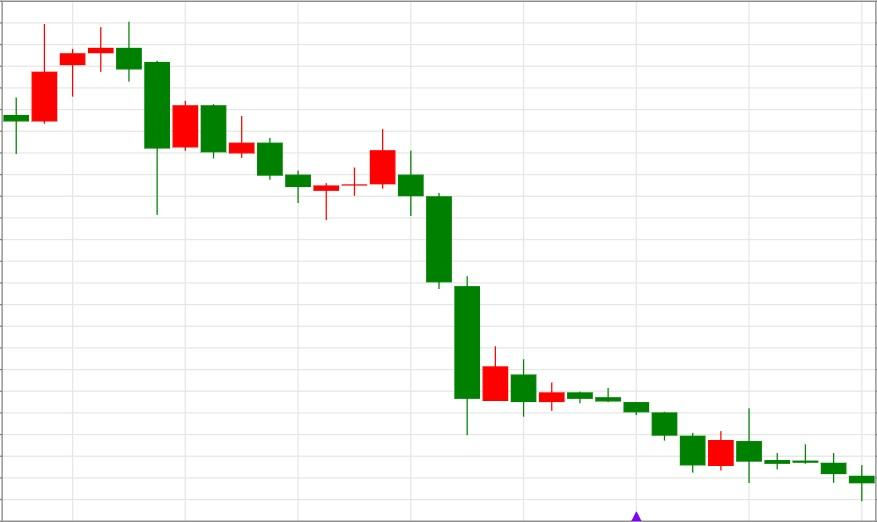three_black_crows_fall: (313, 128, 481, 436)
